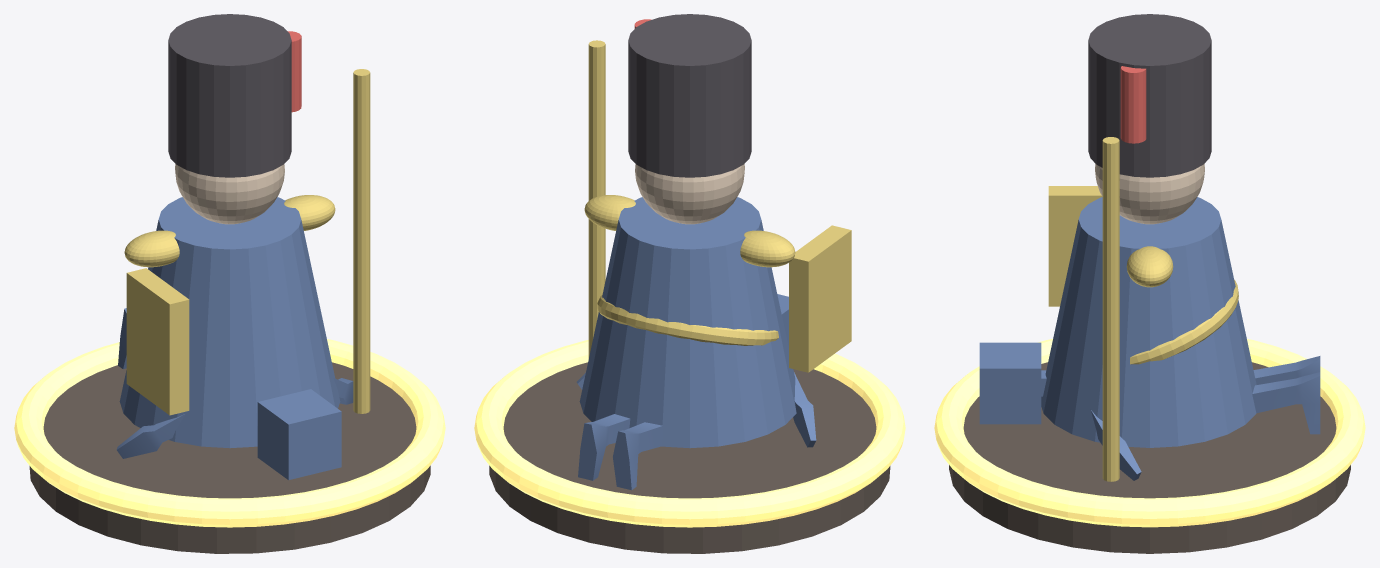
Rendered from unit_gourgaud.glb.
The picture shows the model from 3 angles, left to right: view 1: azimuth 30°, elevation 25°; view 2: azimuth 150°, elevation 25°; view 3: azimuth 270°, elevation 25°; orthographic projection.
Visible parts, largest first — view 1: Cone, Cylinder, Torus, Cylinder.001, Proxy, Cube, Cylinder.003, Sphere.002, Sphere, Sphere.001, Cylinder.002; view 2: Cone, Cylinder, Torus, Cylinder.001, Cube, Proxy, Cylinder.003, Sphere.002, Torus.001, Sphere, Sphere.001; view 3: Cone, Cylinder, Torus, Cylinder.001, Proxy, Cylinder.003, Sphere.002, Cube, Cylinder.002, Torus.001, Sphere.001.
Boxes of the visible parts, bbox=[...] form: Cone: bbox=[119, 197, 340, 448]; Cylinder: bbox=[29, 362, 430, 553]; Torus: bbox=[14, 339, 445, 527]; Cylinder.001: bbox=[168, 14, 291, 177]; Proxy: bbox=[116, 308, 353, 480]; Cube: bbox=[126, 268, 189, 415]; Cylinder.003: bbox=[353, 69, 370, 413]; Sphere.002: bbox=[175, 164, 284, 224]; Sphere: bbox=[124, 230, 179, 267]; Sphere.001: bbox=[284, 195, 335, 230]; Cylinder.002: bbox=[287, 31, 301, 112]; Cone: bbox=[579, 197, 796, 448]; Cylinder: bbox=[489, 362, 890, 553]; Torus: bbox=[474, 340, 905, 527]; Cylinder.001: bbox=[628, 14, 751, 177]; Cube: bbox=[789, 225, 851, 372]; Proxy: bbox=[576, 294, 816, 490]; Cylinder.003: bbox=[588, 40, 605, 358]; Sphere.002: bbox=[635, 164, 744, 224]; Torus.001: bbox=[597, 295, 778, 345]; Sphere: bbox=[740, 230, 795, 267]; Sphere.001: bbox=[584, 195, 635, 230]; Cone: bbox=[1041, 197, 1256, 447]; Cylinder: bbox=[949, 362, 1350, 553]; Torus: bbox=[934, 338, 1365, 527]; Cylinder.001: bbox=[1088, 14, 1211, 177]; Proxy: bbox=[979, 342, 1320, 480]; Cylinder.003: bbox=[1102, 137, 1119, 481]; Sphere.002: bbox=[1095, 164, 1204, 224]; Cube: bbox=[1048, 186, 1102, 306]; Cylinder.002: bbox=[1120, 66, 1146, 143]; Torus.001: bbox=[1130, 280, 1238, 364]; Sphere.001: bbox=[1126, 246, 1173, 287].
Size of the model in its own units: 1.33 by 1.46 by 1.33.
